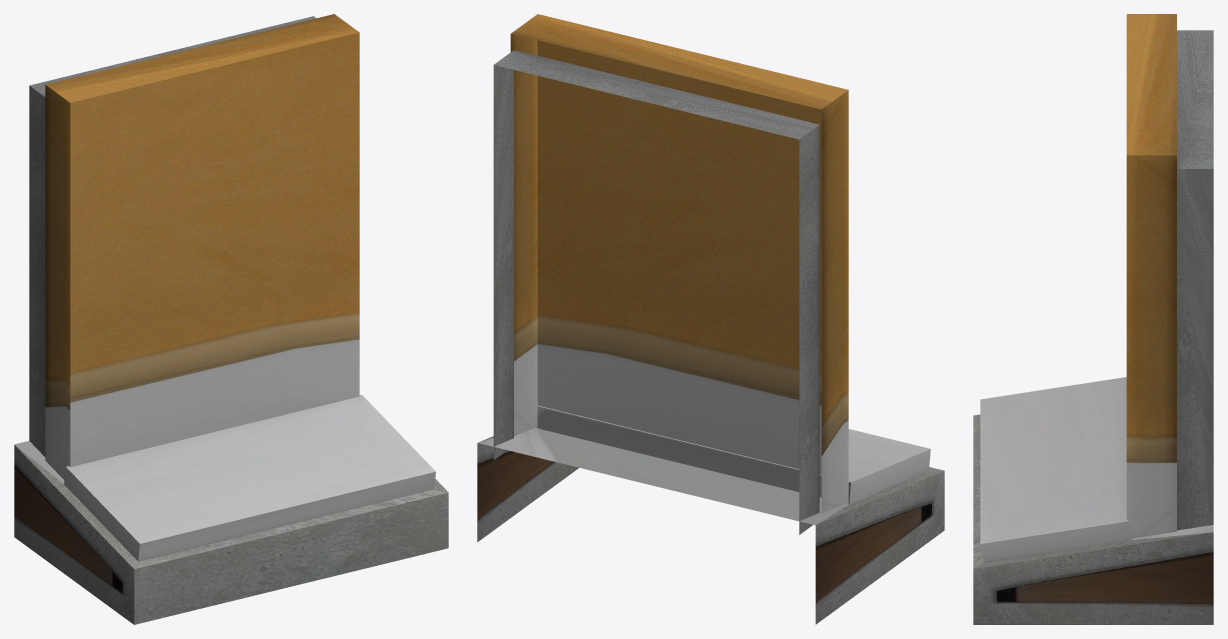
File: nt_2020_bed_fullsize_01_LOD1.obj
3 renders of one model, left to right at view 1: azimuth 30°, elevation 25°; view 2: azimuth 150°, elevation 25°; view 3: azimuth 270°, elevation 25°, orthographic. The views are drawn at different scales.
Parts seen in each view (by area): view 1: mtl_nt_2020_bed_fullsize_01; view 2: mtl_nt_2020_bed_fullsize_01; view 3: mtl_nt_2020_bed_fullsize_01.
Part boxes in pixels (x1=…): mtl_nt_2020_bed_fullsize_01: x1=14, y1=14, x2=448, y2=624; mtl_nt_2020_bed_fullsize_01: x1=477, y1=14, x2=944, y2=624; mtl_nt_2020_bed_fullsize_01: x1=973, y1=14, x2=1213, y2=624.
Size of the model in its own units: 173 by 244 by 115.
